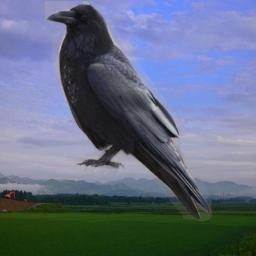Crow: (45, 1, 214, 223)
